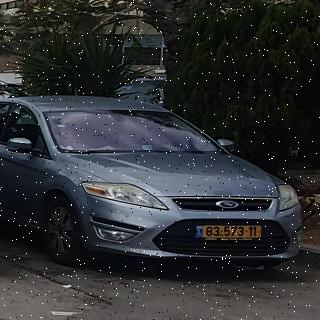LicensePlate: (204, 226, 261, 238)
